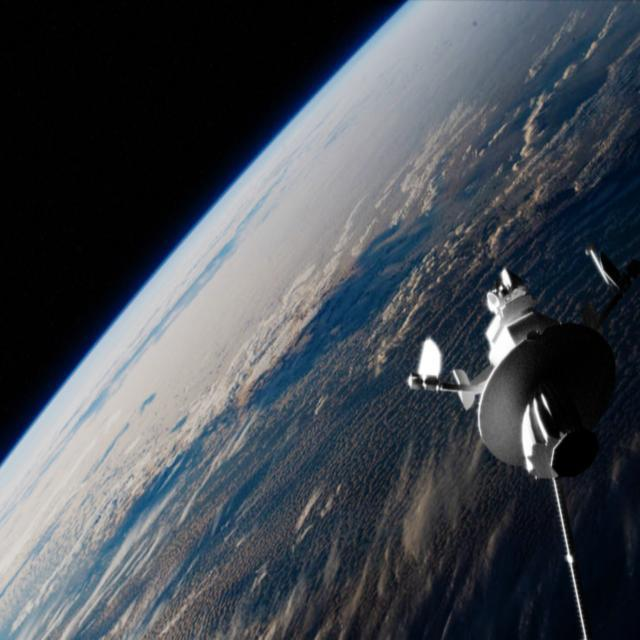satellite: (408, 261, 640, 640)
